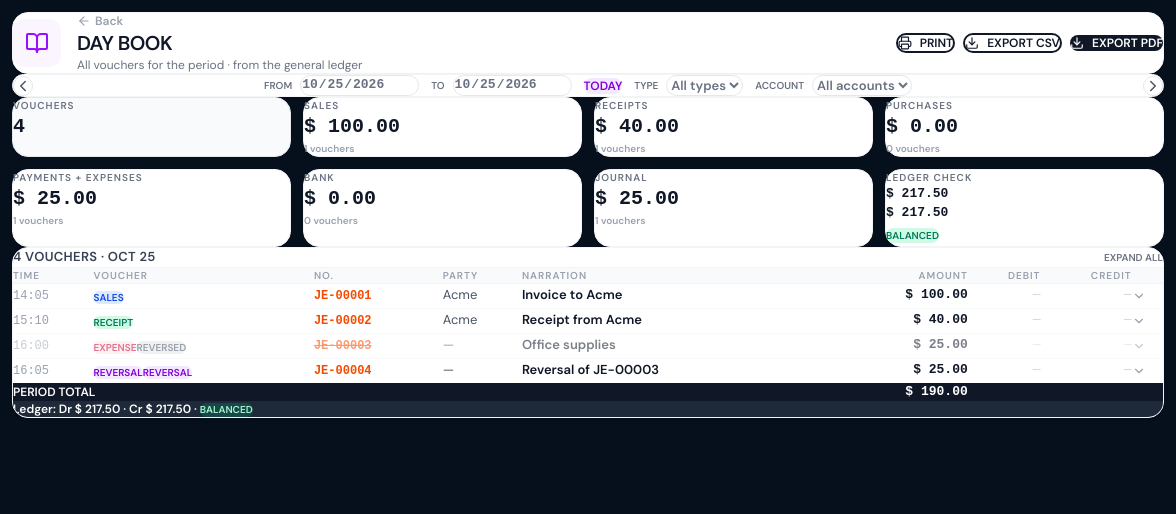
Scenario: Day Book page › expands the invoice row to its four account lines including COGS
Click the row "14:05 Sales JE-00001 Acme Invoice to Acme $ 100.00 — —".
click(588, 296)  # box left=13, top=283, right=1163, bottom=308
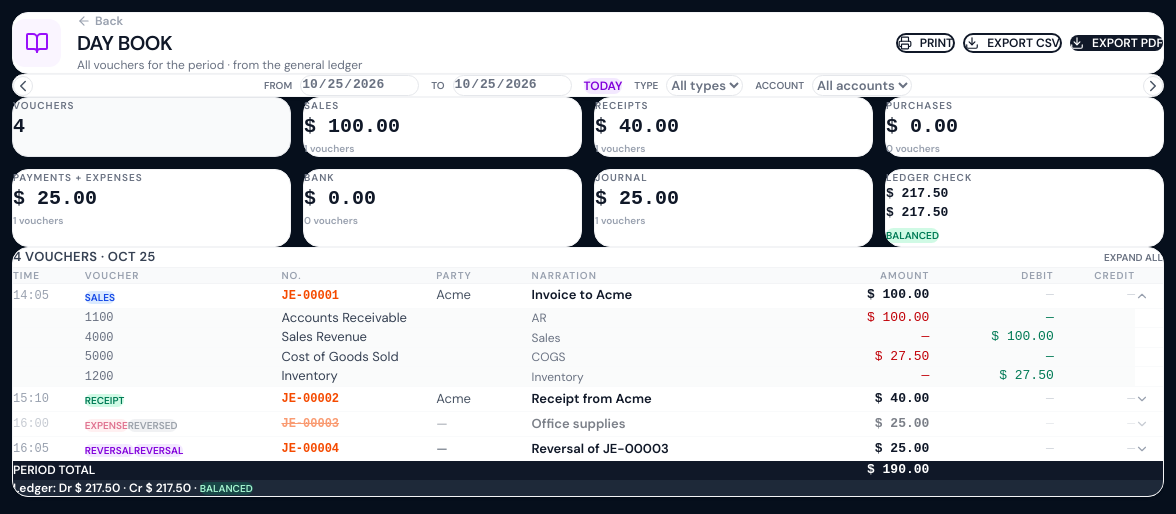
Expected: the text "Accounts Receivable" is shown, left=281, top=308, right=532, bottom=328
Expected: the text "Sales Revenue" is shown, left=281, top=328, right=532, bottom=347
Expected: the text "Cost of Goods Sold" is shown, left=281, top=347, right=532, bottom=367
